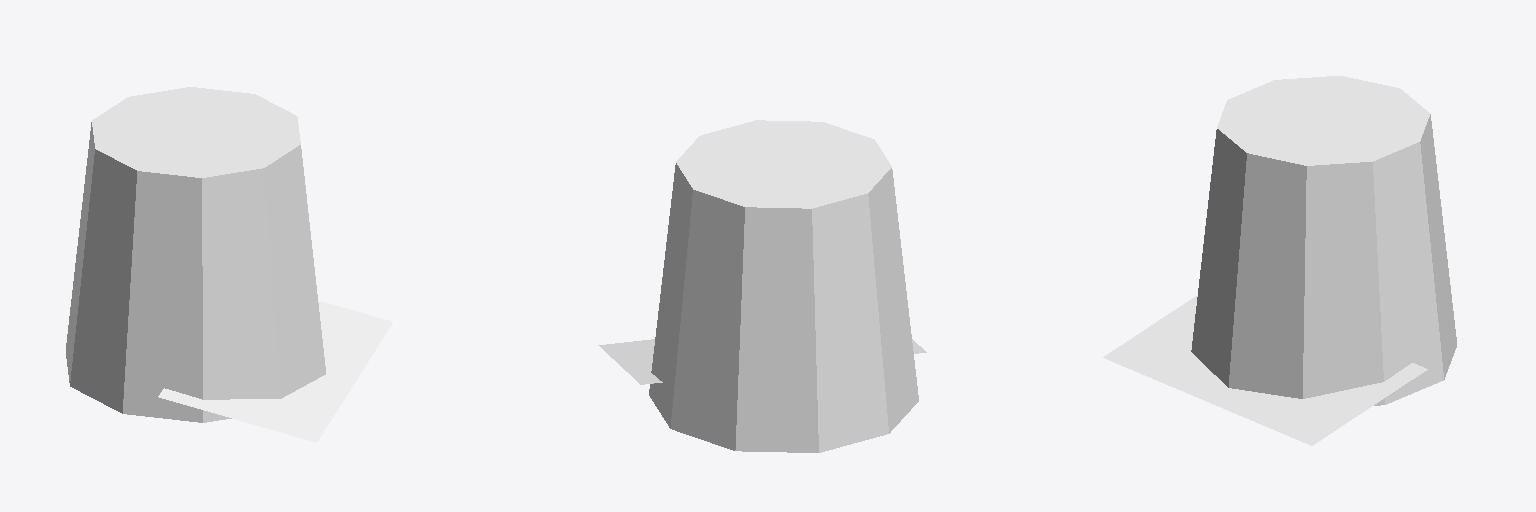
Rendered from metal_bucket_2.obj.
3 renders of one model, left to right at view 1: azimuth 30°, elevation 25°; view 2: azimuth 150°, elevation 25°; view 3: azimuth 270°, elevation 25°, orthographic.
Parts seen in each view (by area): view 1: bucket, bucket_handle; view 2: bucket, bucket_handle; view 3: bucket, bucket_handle.
Boxes of the visible parts, x1=… form: bucket: x1=66, y1=87, x2=325, y2=422; bucket_handle: x1=158, y1=300, x2=392, y2=442; bucket: x1=649, y1=120, x2=918, y2=452; bucket_handle: x1=598, y1=339, x2=926, y2=384; bucket: x1=1191, y1=76, x2=1456, y2=405; bucket_handle: x1=1103, y1=295, x2=1427, y2=445.
Size of the model in its own units: 0.8611 by 0.625 by 0.8611.